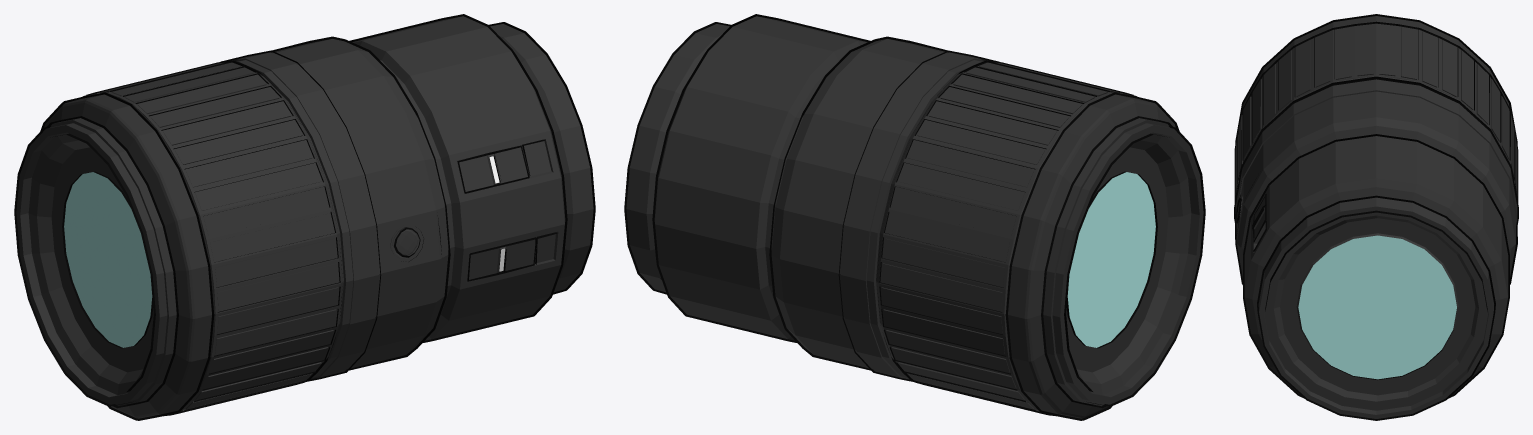
Rendered from MacroLens.fbx.
3 renders of one model, left to right at view 1: azimuth 30°, elevation 25°; view 2: azimuth 150°, elevation 25°; view 3: azimuth 270°, elevation 25°, orthographic. The views are drawn at different scales.
Visible parts, largest first — view 1: Glass; view 2: Glass; view 3: Glass.
Boxes of the visible parts, <box> form: Glass: <box>14,14,595,420</box>; Glass: <box>624,14,1205,420</box>; Glass: <box>1234,14,1518,420</box>.
Bounding box in the file's own units: 77.99 × 51.56 × 51.56.
